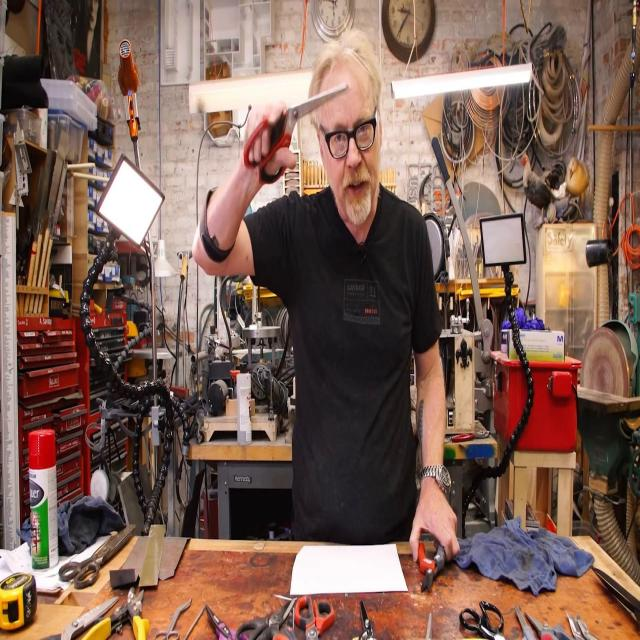scissor: (243, 84, 348, 185), (58, 524, 136, 589), (84, 590, 144, 640), (236, 597, 294, 640), (157, 599, 192, 640)
